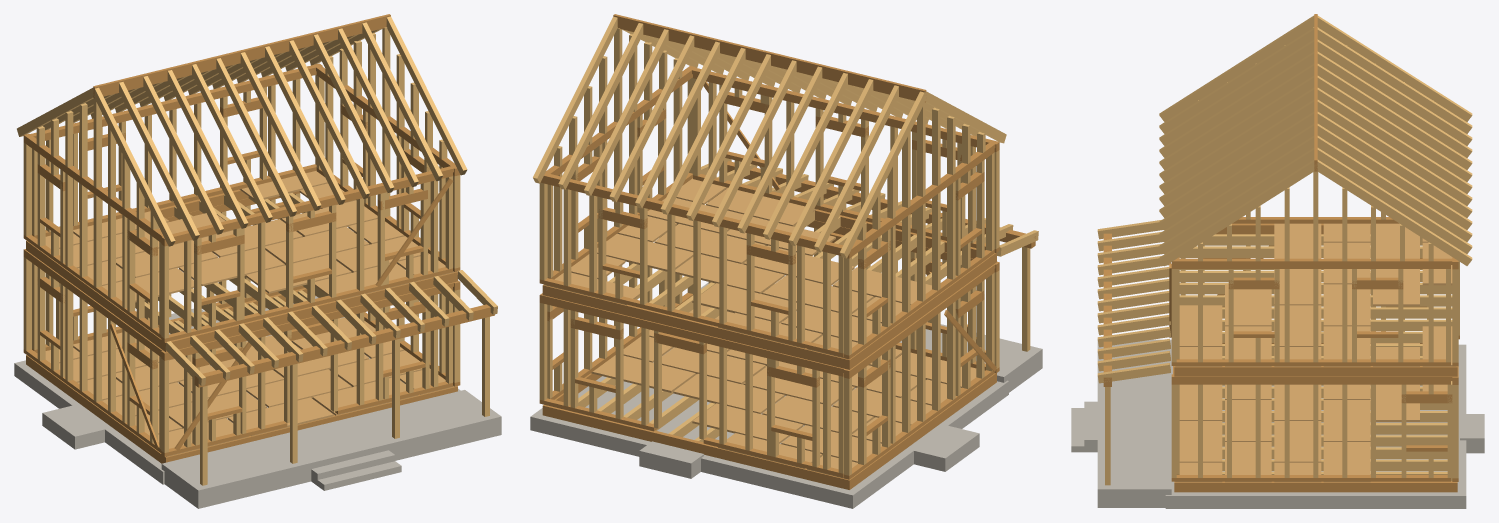
File: base-03-framing.glb
3 views of the same model, side by side, from view 1: azimuth 30°, elevation 25°; view 2: azimuth 150°, elevation 25°; view 3: azimuth 270°, elevation 25° (orthographic). The views are drawn at different scales.
Parts seen in each view (by area): view 1: base_house_3_framing; view 2: base_house_3_framing; view 3: base_house_3_framing.
Boxes of the visible parts, box(x1,y1,x2,y2) form: base_house_3_framing: box(14, 14, 501, 508); base_house_3_framing: box(530, 14, 1042, 508); base_house_3_framing: box(1071, 14, 1484, 508).
Size of the model in its own units: 9.55 by 9.28 by 10.04.
